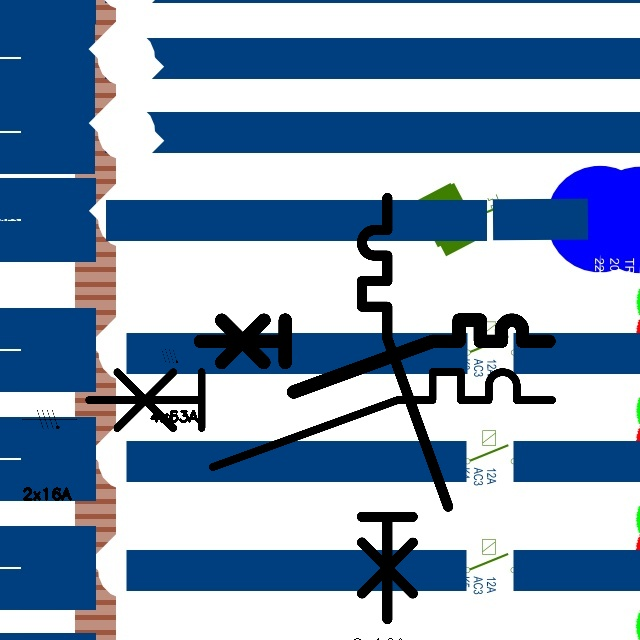interruptor_termomagnetico: (77, 360, 564, 479), (351, 187, 459, 629), (191, 311, 557, 400)
